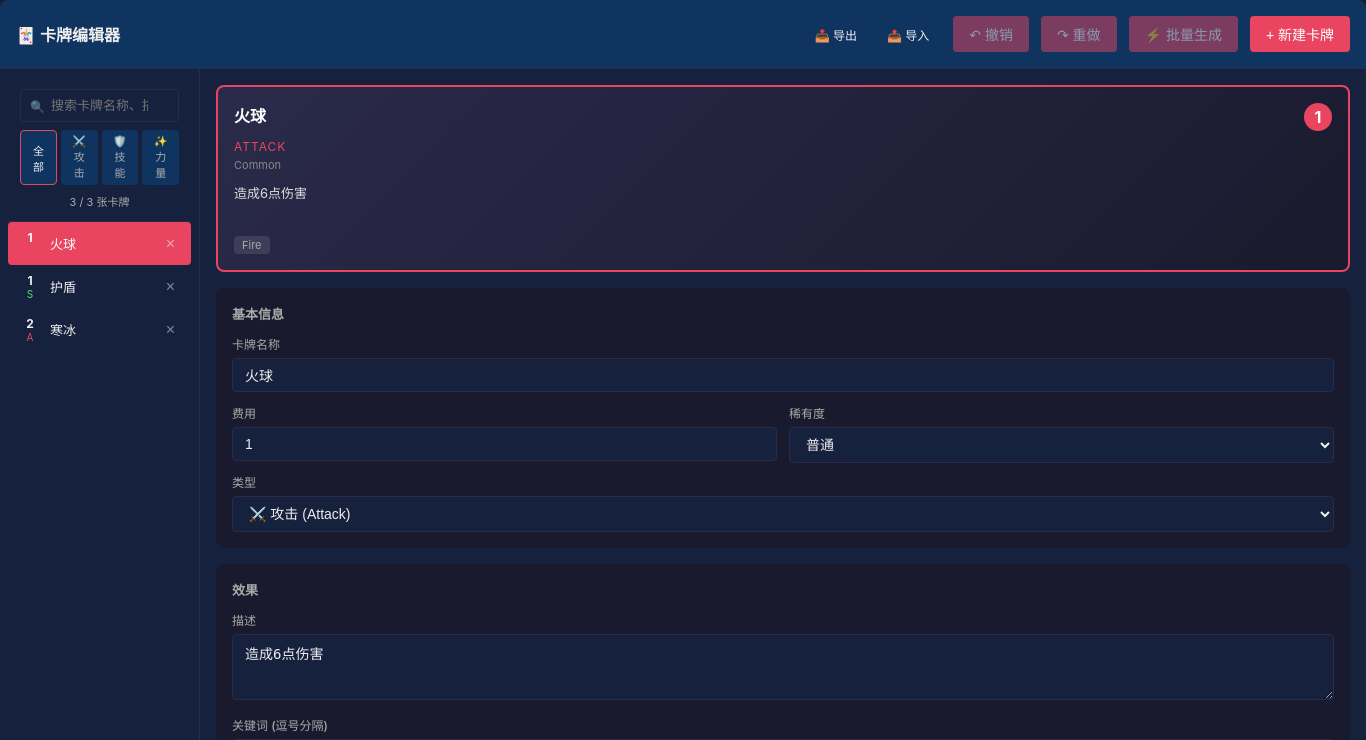
Test: CardEditor 过滤 + 原始索引 › 在过滤结果中选择卡牌选中正确的原始索引
The image size is (1366, 740).
按名称搜索「寒冰」
Type "寒" into the field with placeholder "搜索卡牌名称、描述或关键词..." at (100, 106), box [20,89,179,122]
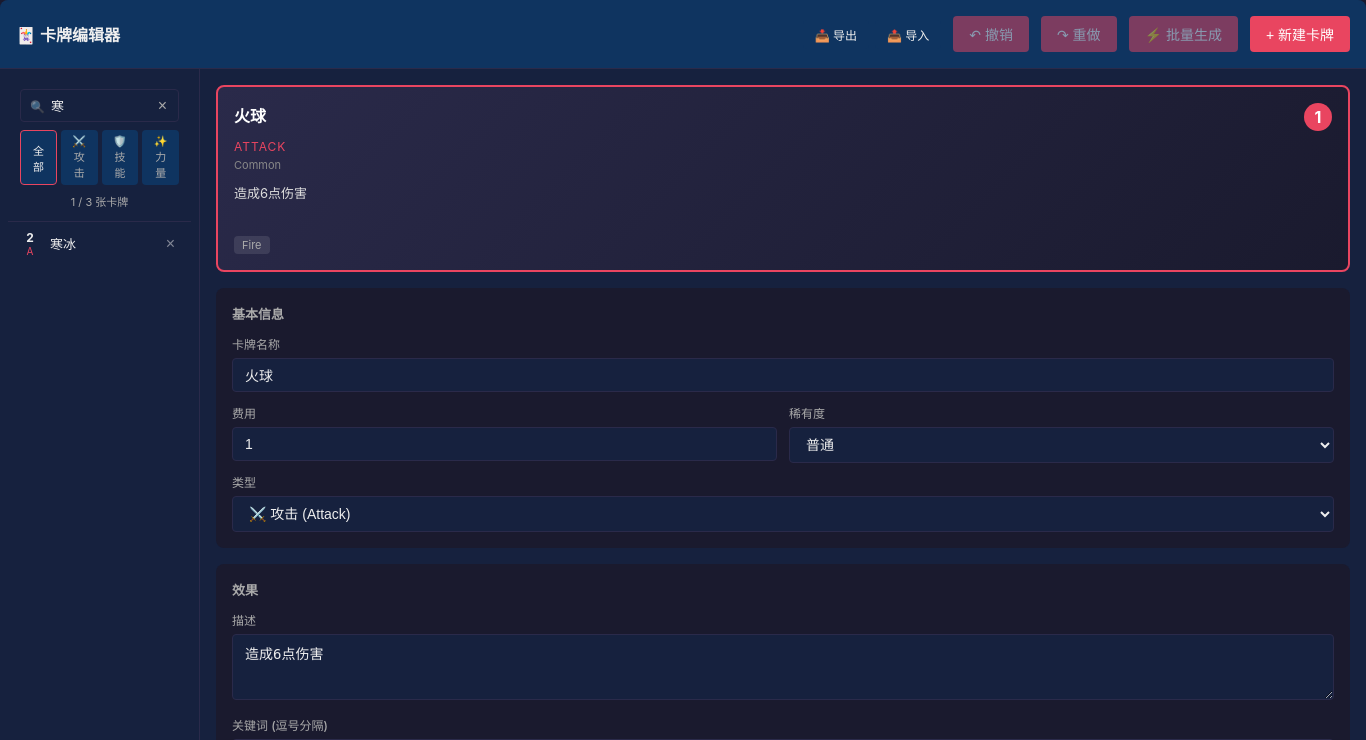
Result: the text "1 / 3 张卡牌" is shown at [71,195,128,209]
Click the text "寒冰" at (63, 244), box [50,236,76,252]
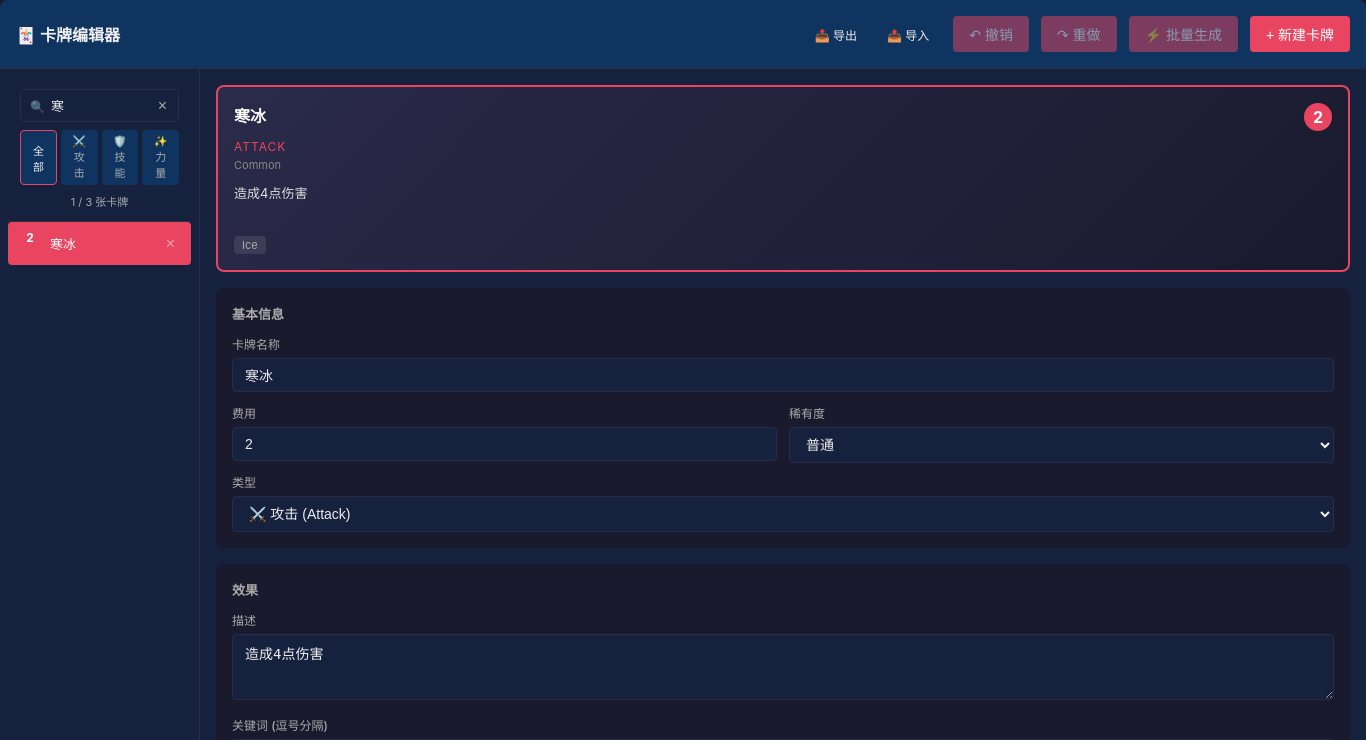
Result: the field showing "寒冰" below "卡牌名称" holds "寒冰" at [232,358,1334,392]
